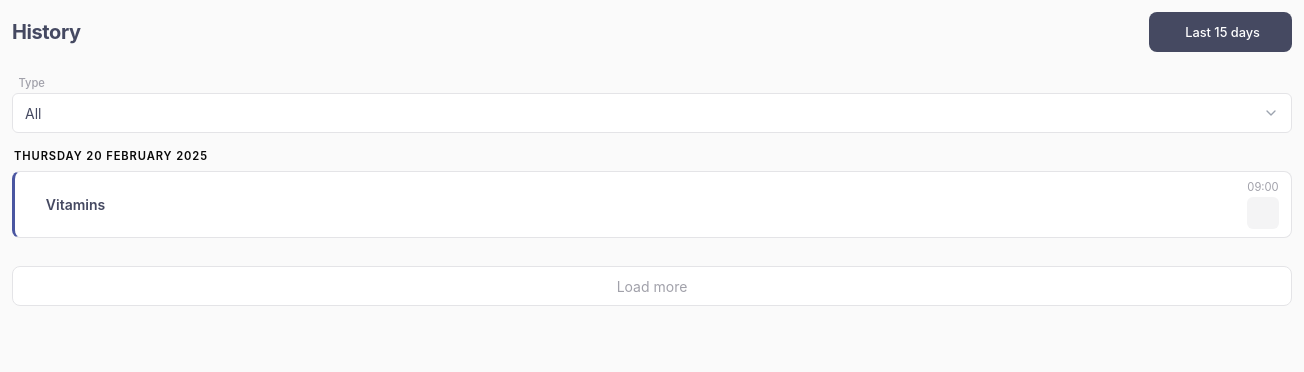
Scenario: HistoryPage › loads more entries when button clicked
Click the button "Load more" at (652, 286), box [12,266,1292,306]
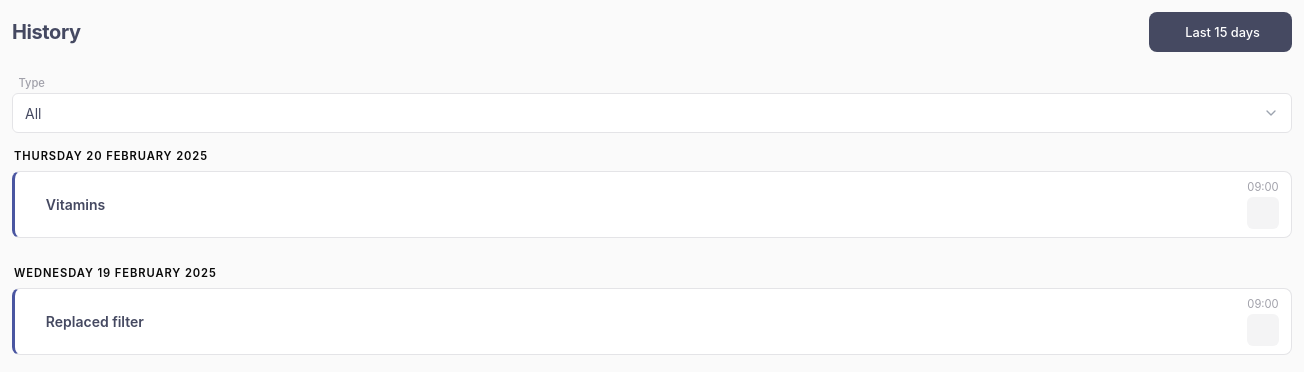
Now the text "Replaced filter" is shown, box [46,313,144,330]
